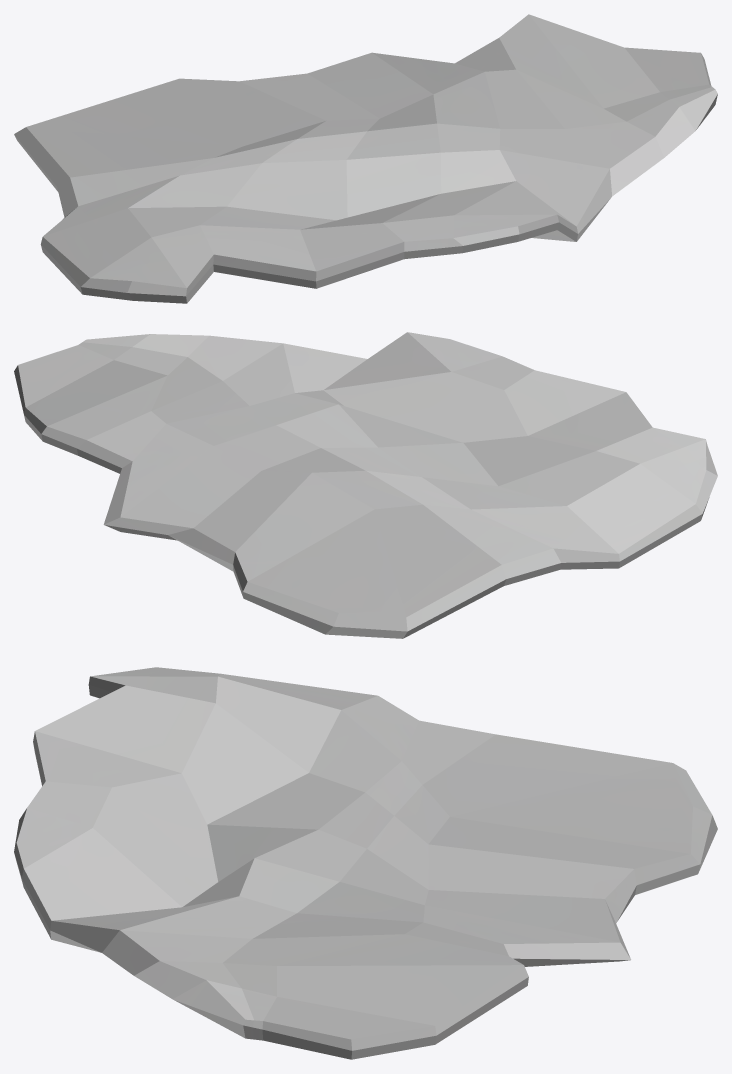
The model's file is rubble_2.glb.
3 views of the same model, one above another, from view 1: azimuth 30°, elevation 25°; view 2: azimuth 150°, elevation 25°; view 3: azimuth 270°, elevation 25° (orthographic). The views are drawn at different scales.
Visible parts, largest first — view 1: rubble_2; view 2: rubble_2; view 3: rubble_2.
Part boxes in pixels (left/top/right/bottom): rubble_2: left=14, top=14, right=717, bottom=303; rubble_2: left=14, top=332, right=717, bottom=638; rubble_2: left=14, top=667, right=717, bottom=1059.
Size of the model in its own units: 2.86 by 0.2861 by 2.11.
Materials: 1 (1 with a texture image).
